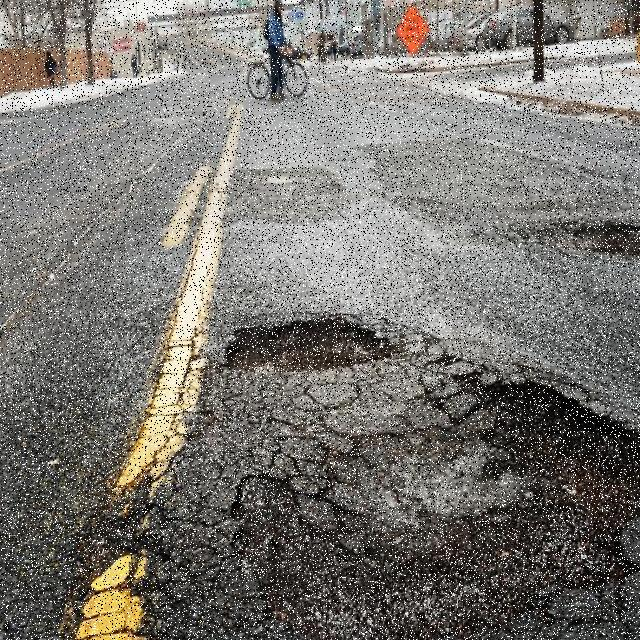pothole: (232, 375, 640, 640), (224, 310, 394, 383)
